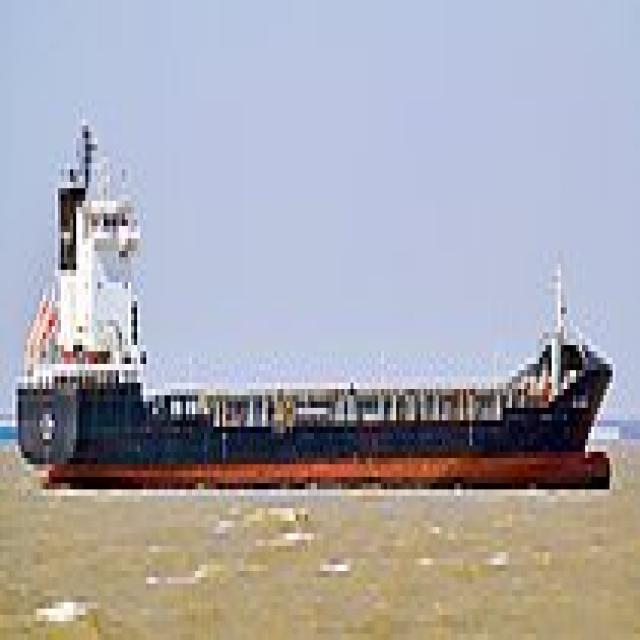Cargo: (12, 100, 613, 490)
